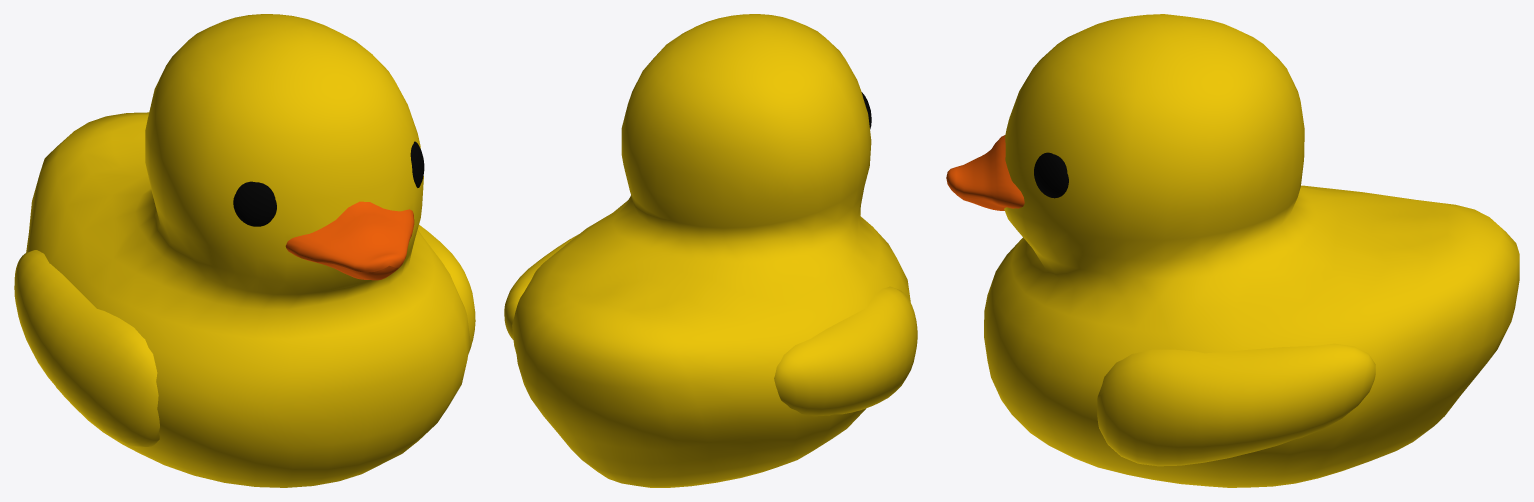
Rendered from 3D Rubber Duck Pack - Duck.fbx.
3 views of the same model, side by side, from view 1: azimuth 30°, elevation 25°; view 2: azimuth 150°, elevation 25°; view 3: azimuth 270°, elevation 25° (orthographic). The views are drawn at different scales.
Visible parts, largest first — view 1: 3D Rubber Duck Pack - Duck; view 2: 3D Rubber Duck Pack - Duck; view 3: 3D Rubber Duck Pack - Duck.
Part boxes in pixels (x1,y1,x2,y2): 3D Rubber Duck Pack - Duck: [14, 14, 475, 487]; 3D Rubber Duck Pack - Duck: [504, 14, 917, 487]; 3D Rubber Duck Pack - Duck: [946, 14, 1519, 487].
Size of the model in its own units: 34 by 37.11 by 44.23.
